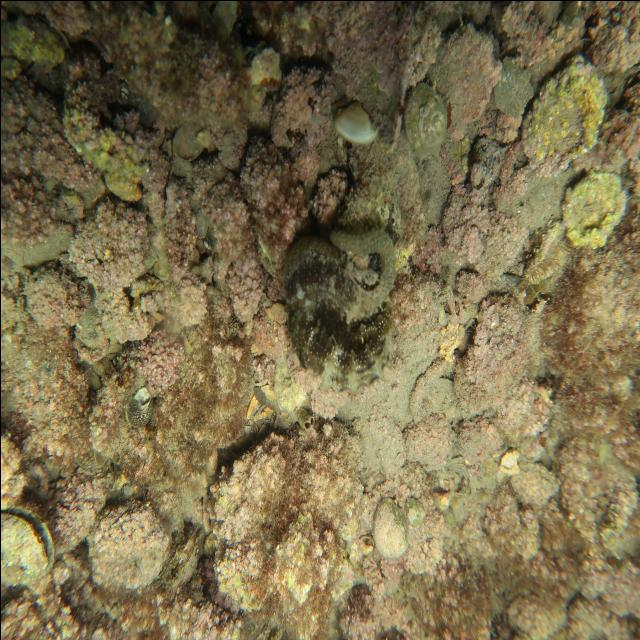Guttu: (315, 300, 401, 390)
